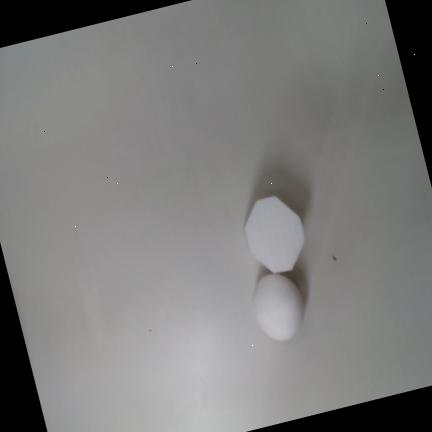Esfera: (253, 273, 303, 340)
Prisma_hexagonal: (244, 195, 304, 273)
